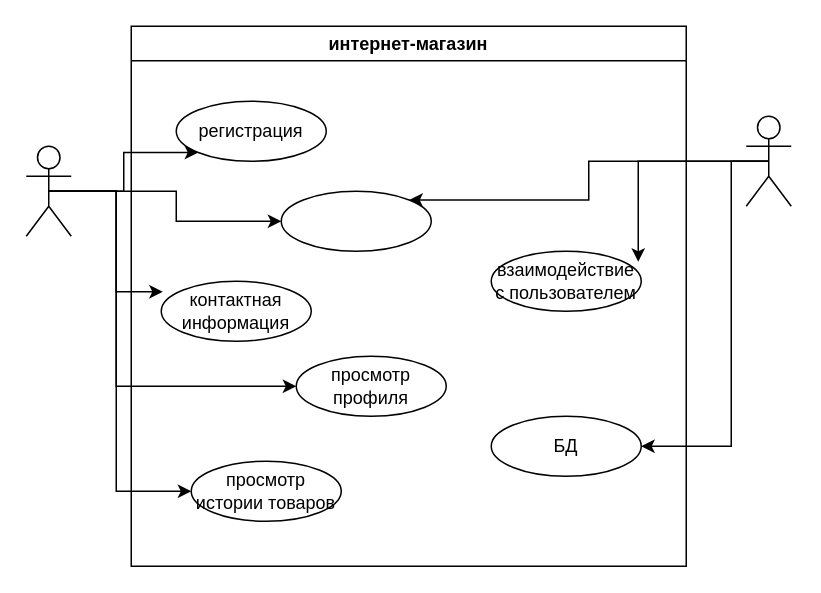
Image size: 821x593. Some labels were removed from this diagram. Each missing label, with the centre of its shape:
"авторизация" belongs at (355,220).
"админ" belongs at (768,160).
"гость" belongs at (48,190).
